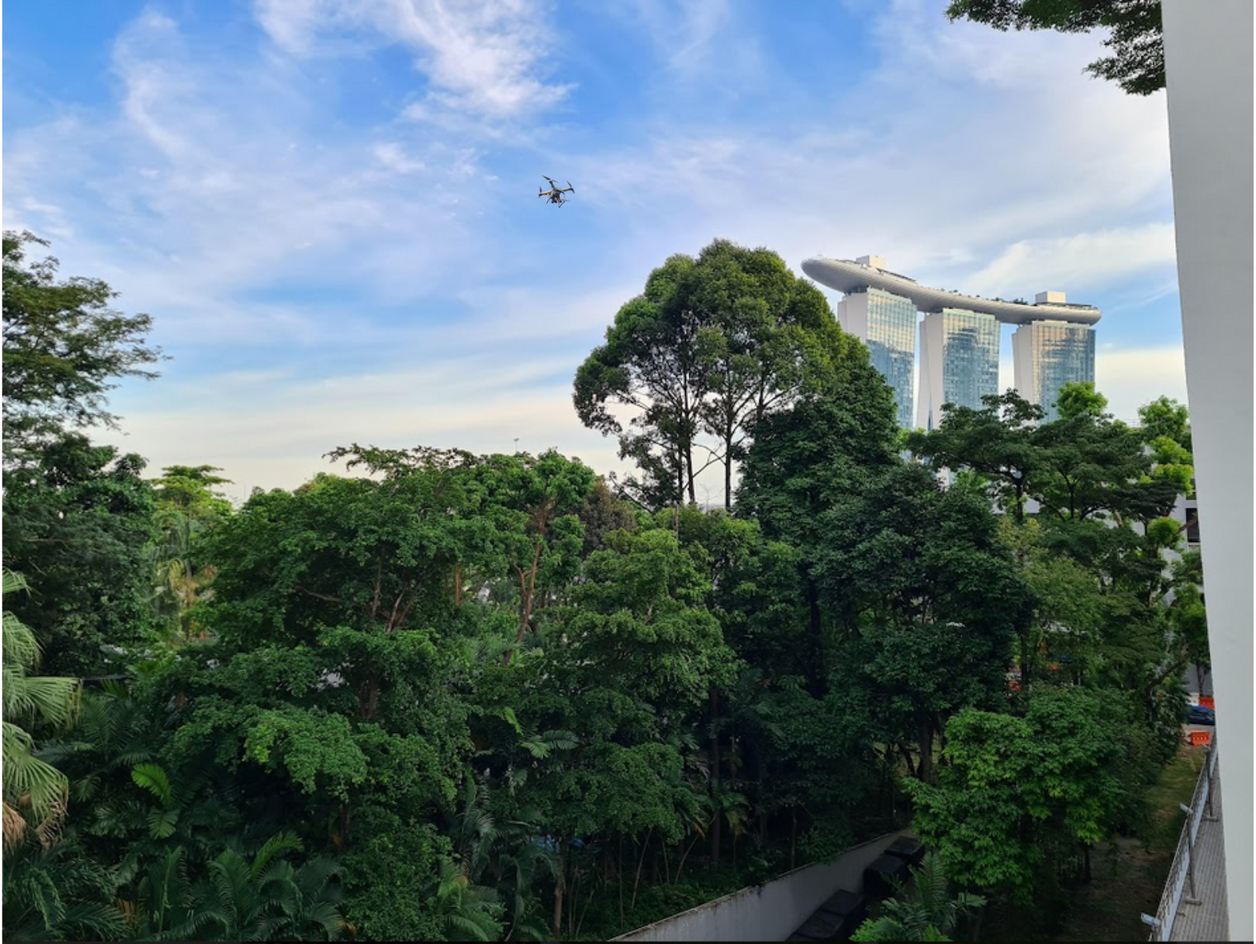drone_other: (536, 173, 577, 211)
